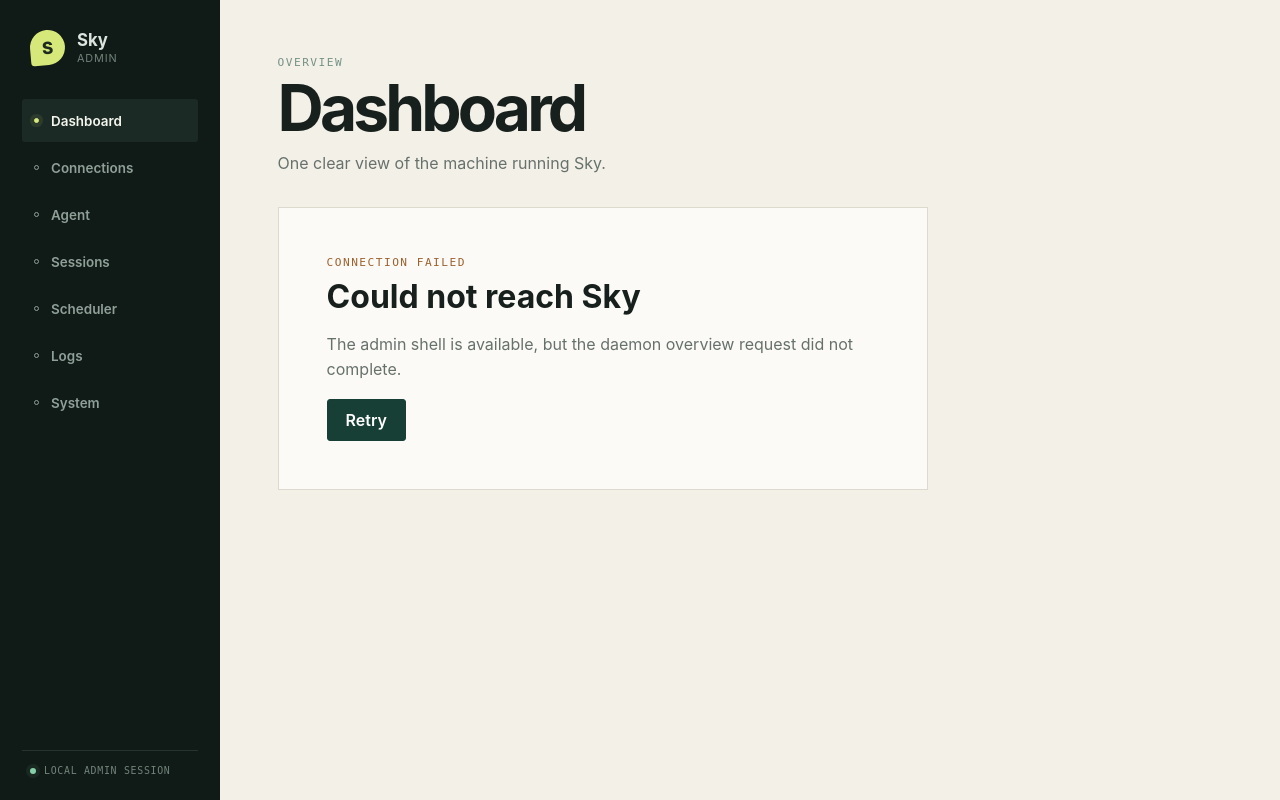
Test: recovers from an initial network error when the user retries
Expected: the message shows "Could not reach Sky", [327,277,641,316]
Click the button "Retry" at (366, 420), box [327,399,406,441]
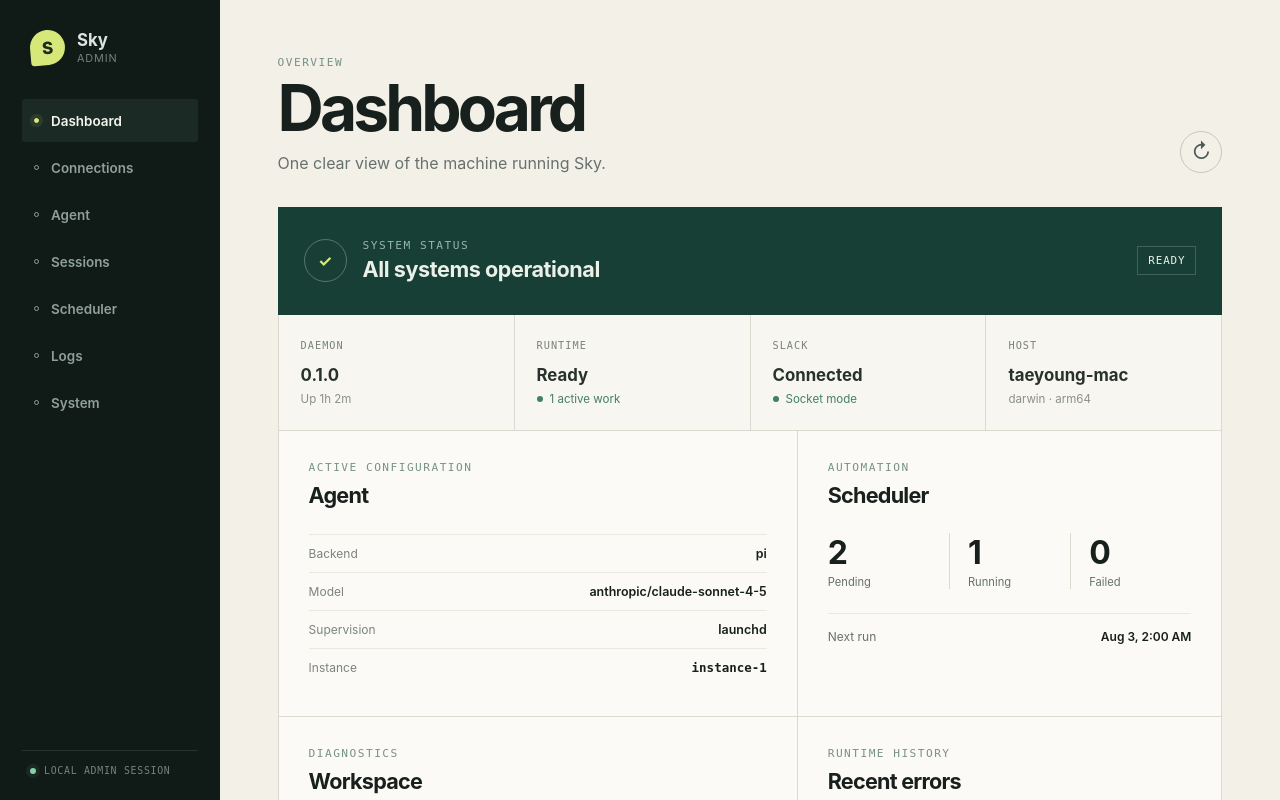
Now the message "System status" shows "All systems operational", box [363,256,600,282]
